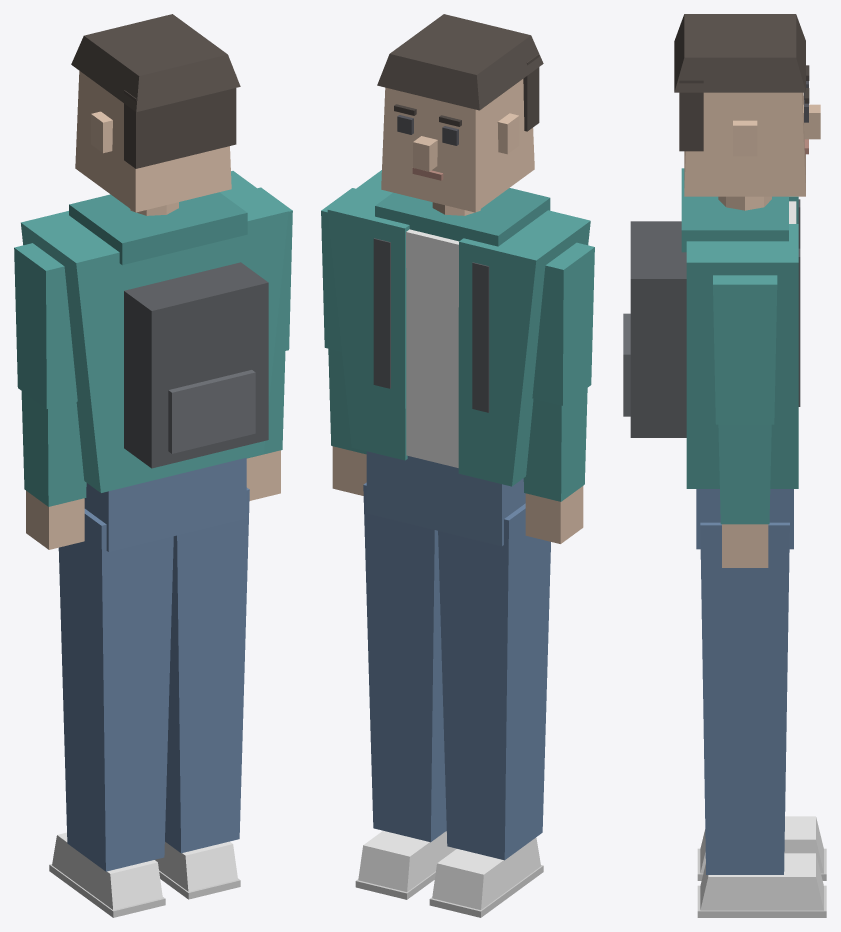
Rendered from hero.glb.
3 views of the same model, side by side, from view 1: azimuth 30°, elevation 25°; view 2: azimuth 150°, elevation 25°; view 3: azimuth 270°, elevation 25° (orthographic). The views are drawn at different scales.
Parts seen in each view (by area): view 1: Torso, LegMesh, LegMesh2, HeadMesh, ArmMesh, ArmMesh2; view 2: Torso, LegMesh, LegMesh2, HeadMesh, ArmMesh, ArmMesh2; view 3: Torso, LegMesh2, HeadMesh, ArmMesh2, LegMesh.
Part boxes in pixels (left/top/right/bottom): Torso: left=21, top=171, right=288, bottom=551; LegMesh: left=49, top=509, right=173, bottom=917; LegMesh2: left=155, top=487, right=249, bottom=899; HeadMesh: left=71, top=14, right=240, bottom=212; ArmMesh: left=14, top=243, right=86, bottom=549; ArmMesh2: left=246, top=187, right=292, bottom=500; Torso: left=327, top=170, right=590, bottom=546; LegMesh: left=429, top=503, right=550, bottom=917; LegMesh2: left=355, top=482, right=456, bottom=899; HeadMesh: left=377, top=14, right=543, bottom=212; ArmMesh: left=523, top=242, right=594, bottom=543; ArmMesh2: left=321, top=188, right=366, bottom=495; Torso: left=623, top=168, right=800, bottom=549; LegMesh2: left=697, top=522, right=826, bottom=917; HeadMesh: left=674, top=14, right=820, bottom=196; ArmMesh2: left=713, top=275, right=777, bottom=567; LegMesh: left=697, top=816, right=826, bottom=880.
Size of the model in its own units: 0.591 by 1.93 by 0.4175.
